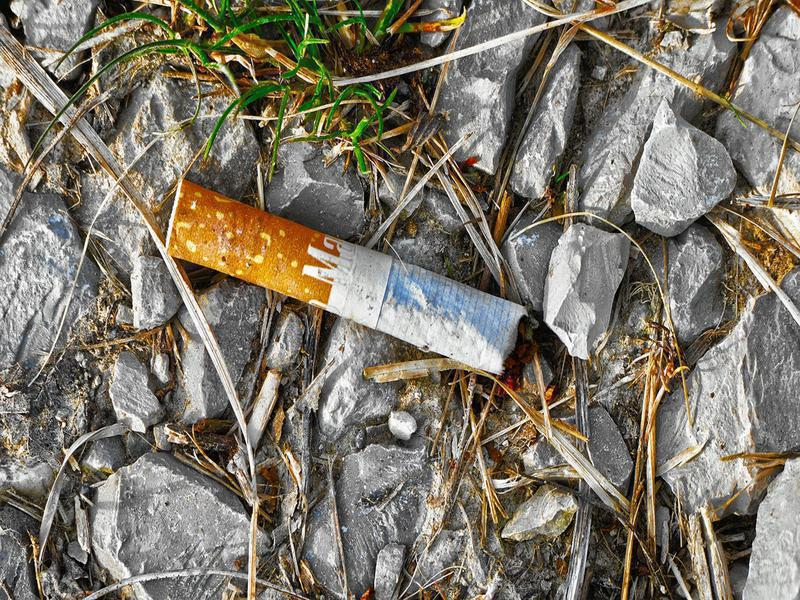burned_cigarette: (160, 172, 538, 380)
